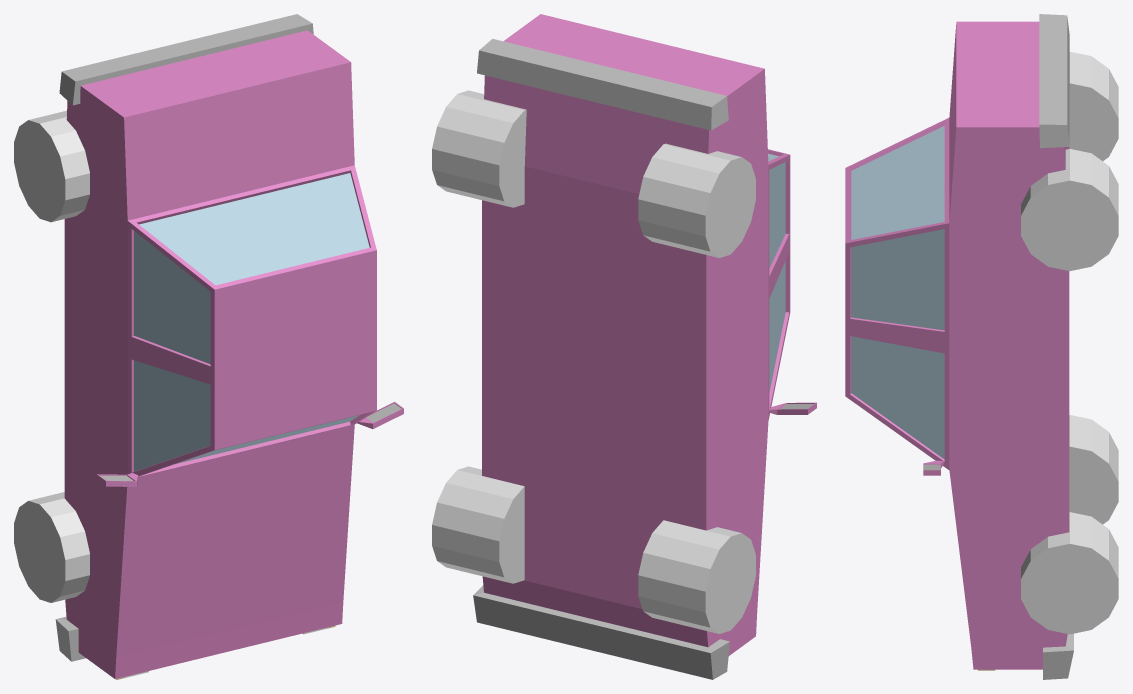
File: PlayerCar.fbx
3 renders of one model, left to right at view 1: azimuth 30°, elevation 25°; view 2: azimuth 150°, elevation 25°; view 3: azimuth 270°, elevation 25°, orthographic. The views are drawn at different scales.
Parts seen in each view (by area): view 1: Car, Back Wheel cut out, Front Wheel cut out, Mirrors; view 2: Car, Back Wheel cut out, Front Wheel cut out; view 3: Car, Back Wheel cut out, Front Wheel cut out.
Part boxes in pixels (x1,y1,x2,y2): Car: (55,14,376,679); Back Wheel cut out: (14,110,89,222); Front Wheel cut out: (14,492,89,602); Mirrors: (96,401,403,486); Car: (473,14,790,679); Back Wheel cut out: (432,90,755,257); Front Wheel cut out: (432,466,755,633); Car: (845,14,1073,679); Back Wheel cut out: (1021,51,1118,270); Front Wheel cut out: (1021,415,1118,634).
Bounding box in the file's own units: 262 × 489 × 218.
